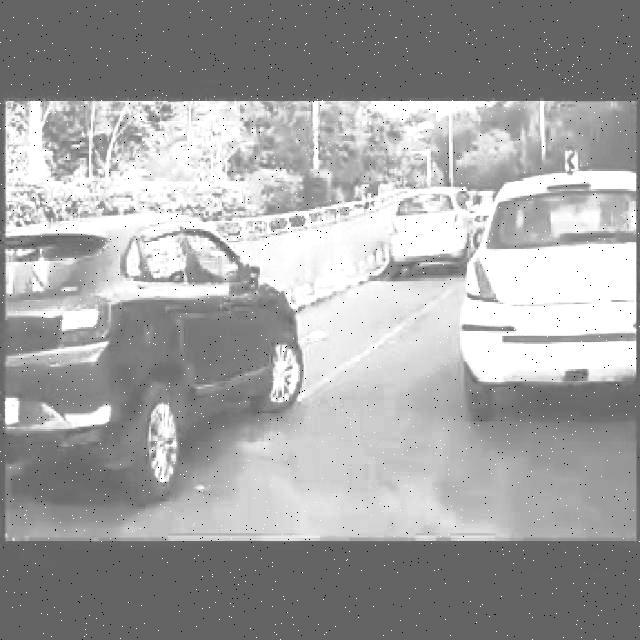Car: (6, 205, 304, 494), (489, 182, 625, 391), (384, 180, 473, 276)
